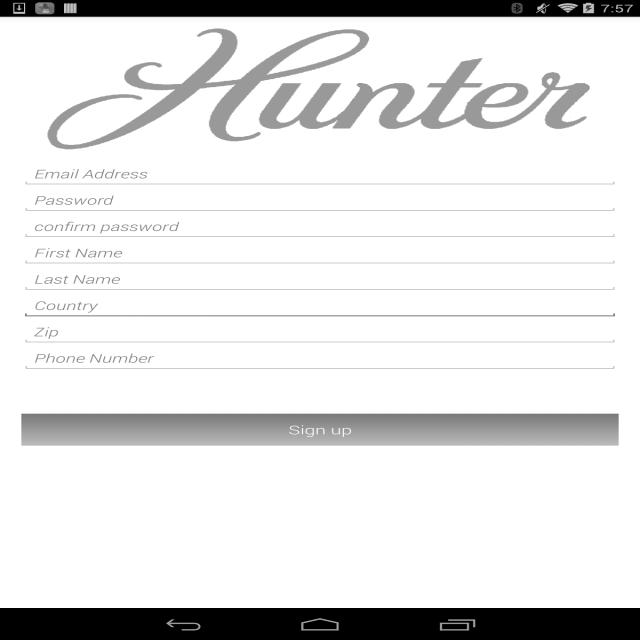Button: (15, 410, 623, 450)
EditText: (21, 346, 624, 376), (18, 215, 616, 242), (24, 163, 619, 189), (21, 296, 607, 321), (18, 245, 617, 268)
ImageView: (69, 27, 600, 140)
